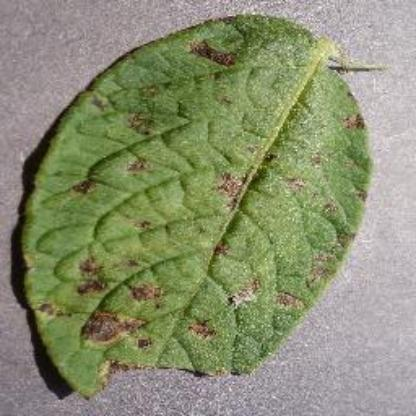Early-Blight: (15, 9, 397, 404)
